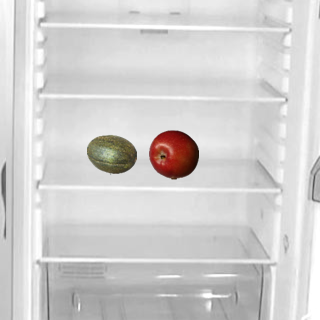Apple Braeburn: (148, 129, 198, 179)
Melon Piel de Sapo: (86, 129, 136, 179)
